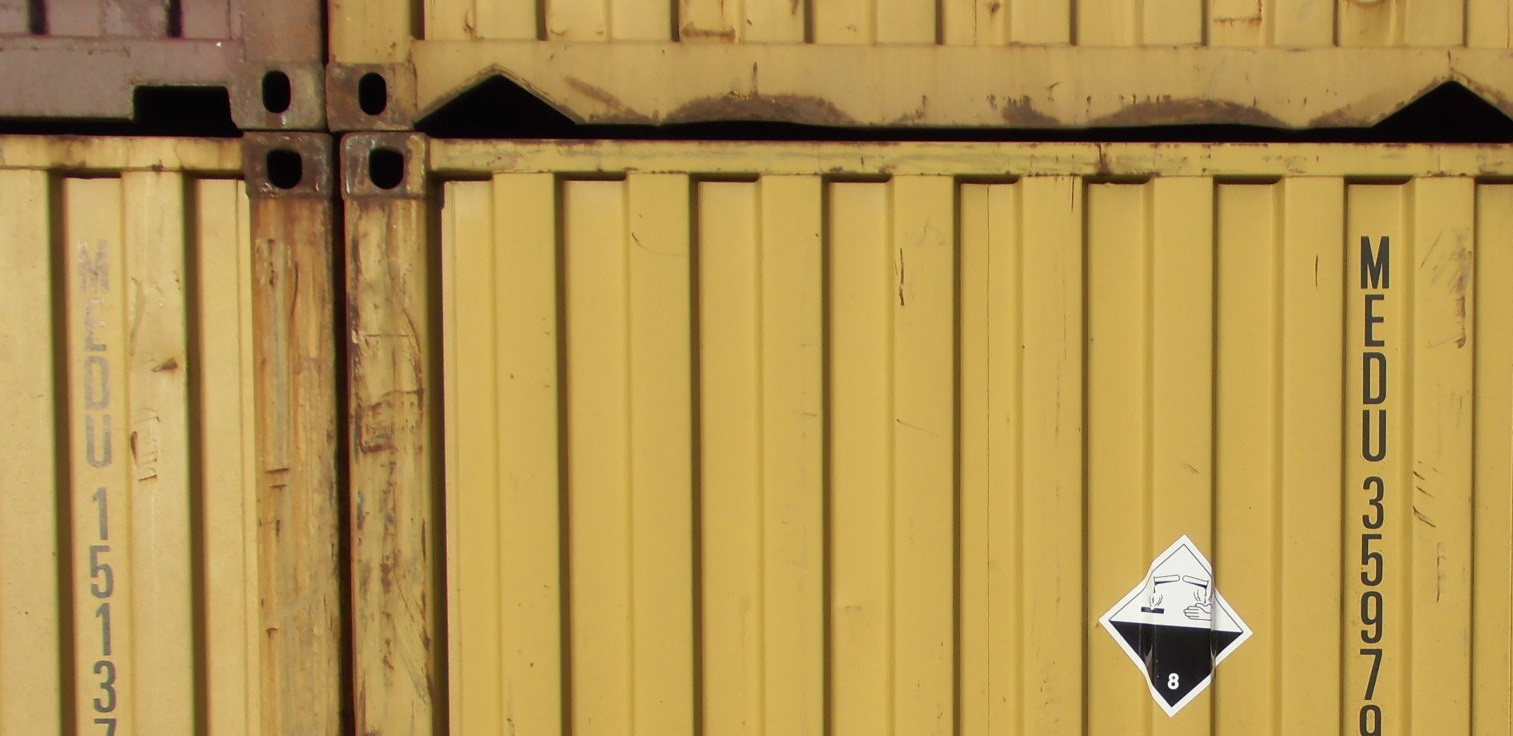container_no_door: (353, 131, 1510, 729)
